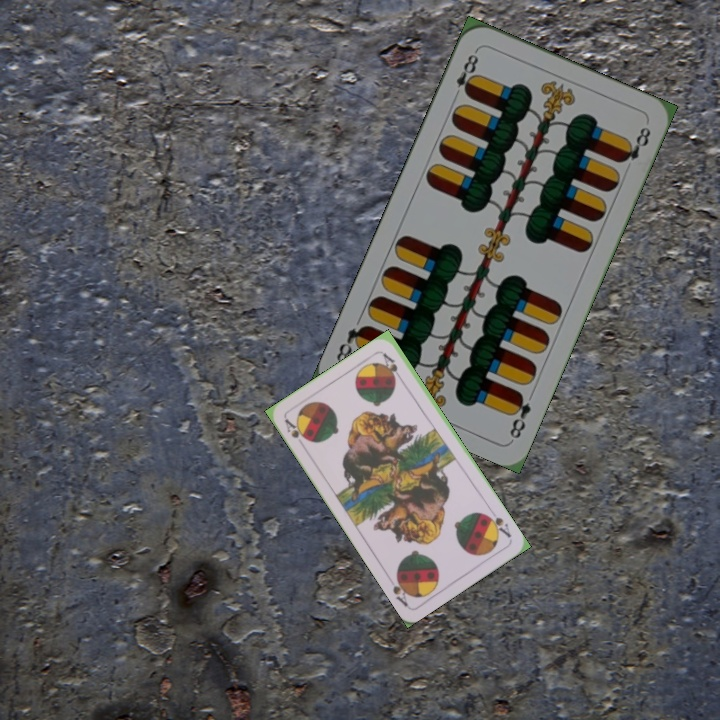E8: (449, 46, 482, 102), (505, 388, 534, 442)
SA: (280, 414, 312, 451), (481, 509, 514, 540)
